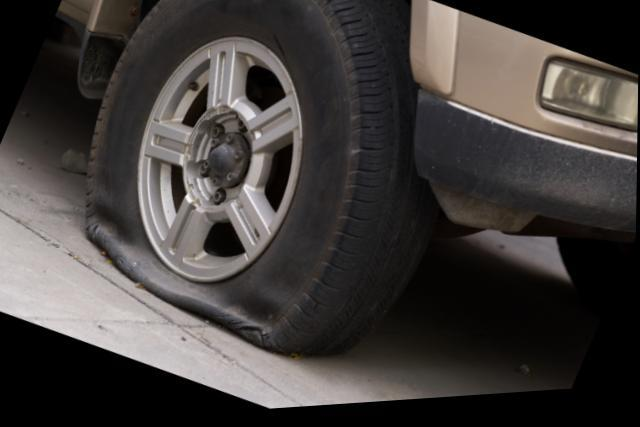tire flat: (81, 0, 441, 361)
